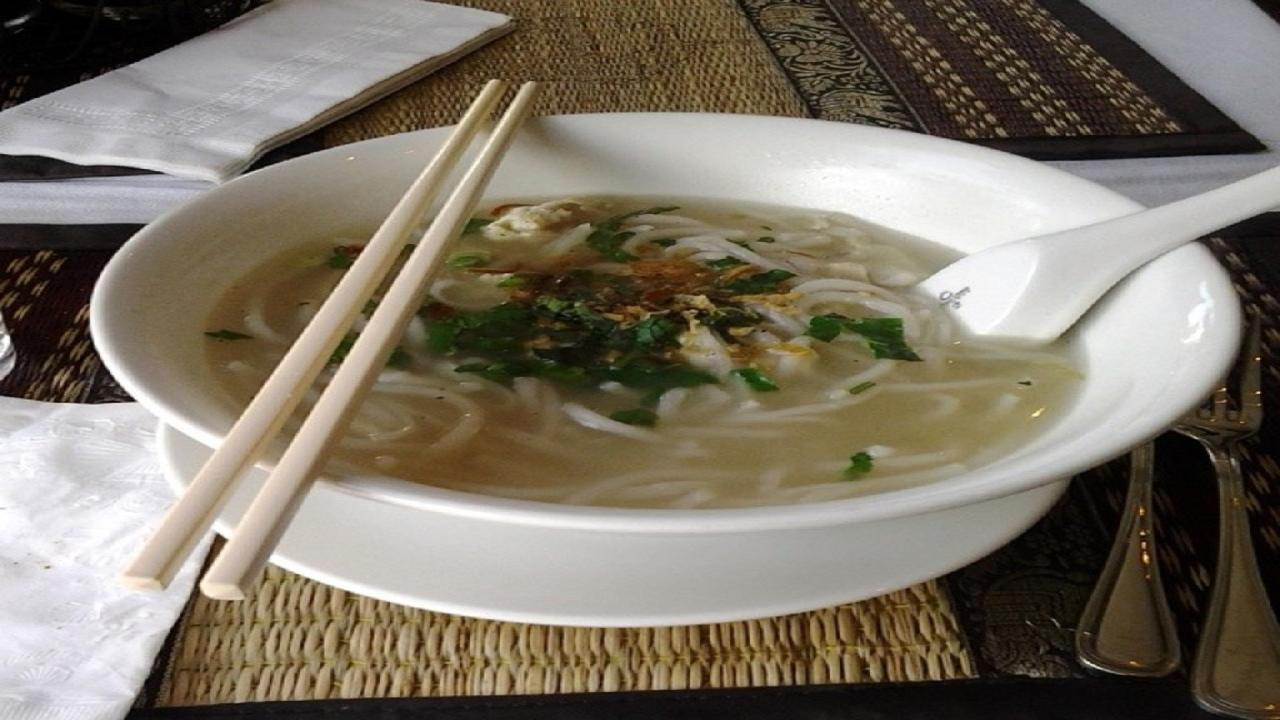chopstick: (125, 82, 537, 603)
fork: (1165, 316, 1275, 706)
